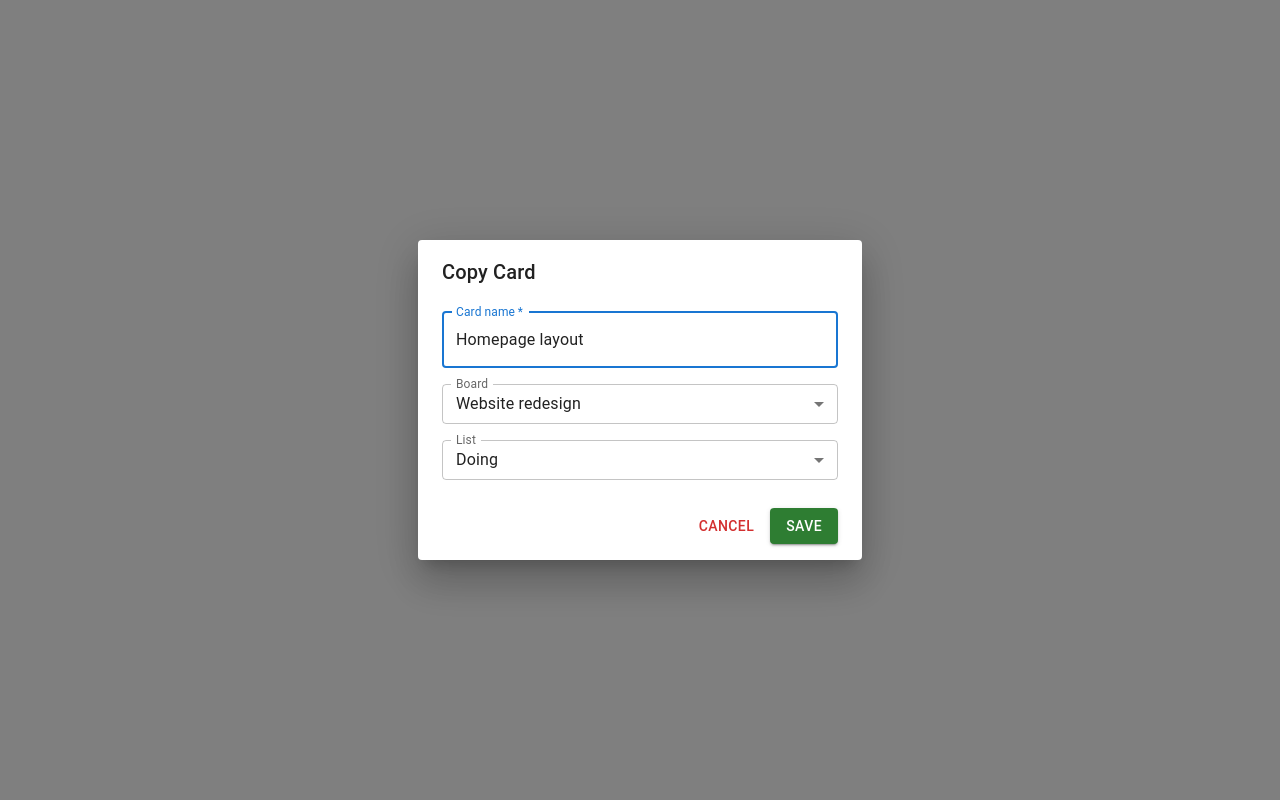
Test: CopyCardDialog › picks the card's own list again on going back to its board
Check: the dropdown named "List" reads "Doing", box [456,450,498,469]
Click the dropdown named "Board" at (518, 404), box [456,394,581,413]
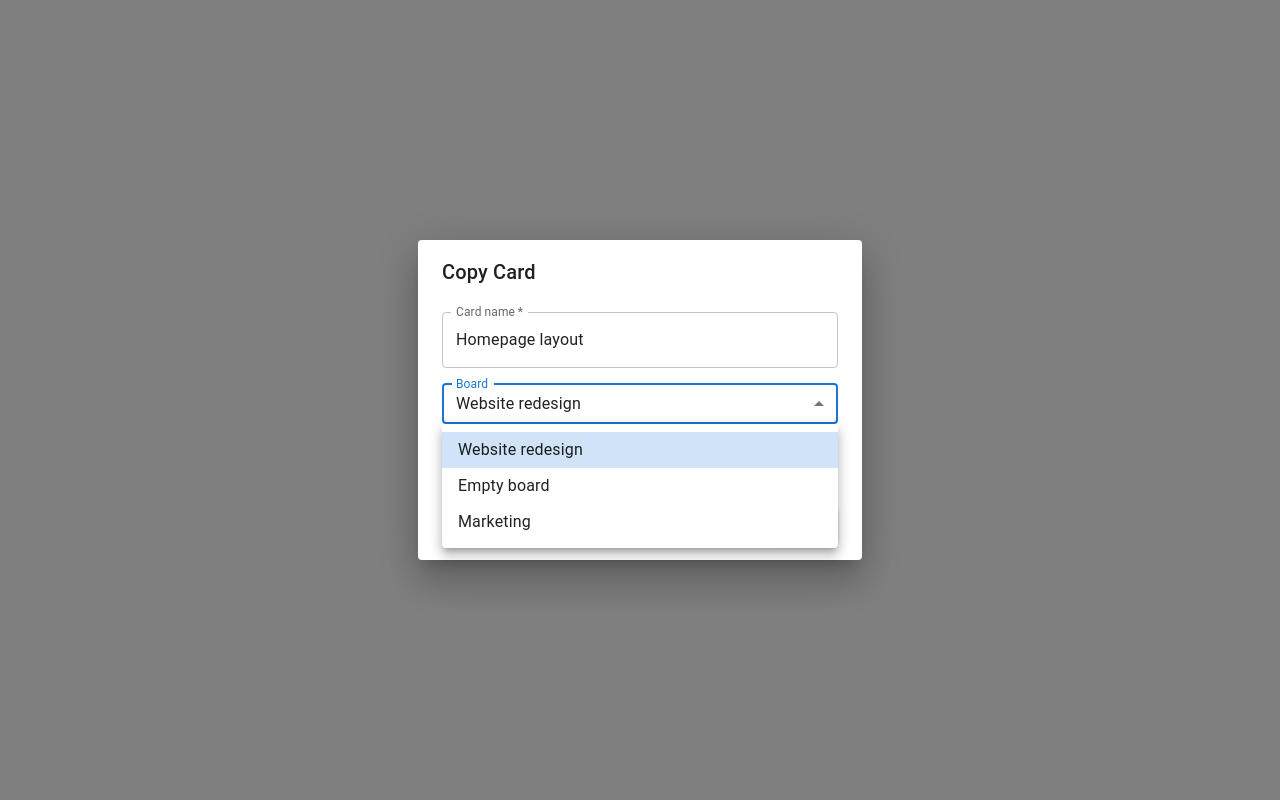
Click the option "Marketing" at (494, 522), box [458,512,531,531]
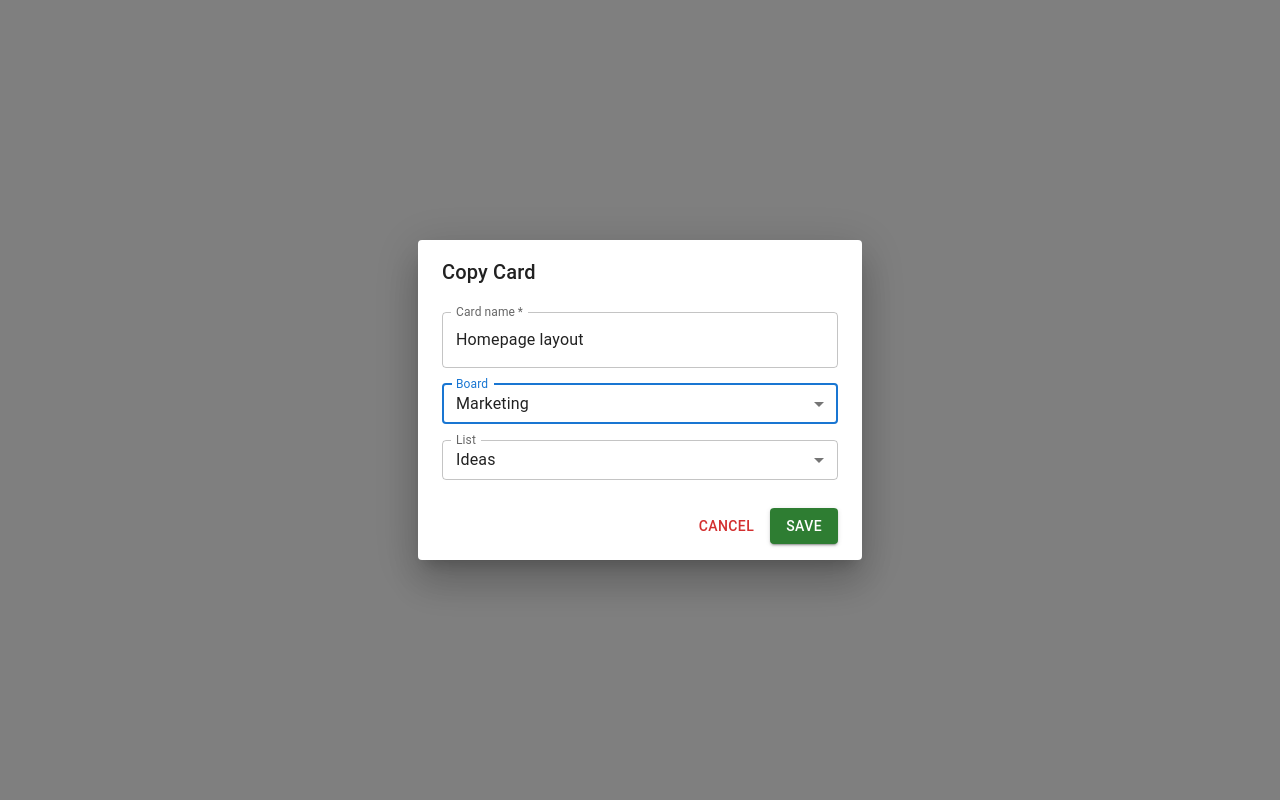
Check: the dropdown named "List" reads "Ideas", box [456,450,496,469]
Click the dropdown named "Board" at (492, 404), box [456,394,529,413]
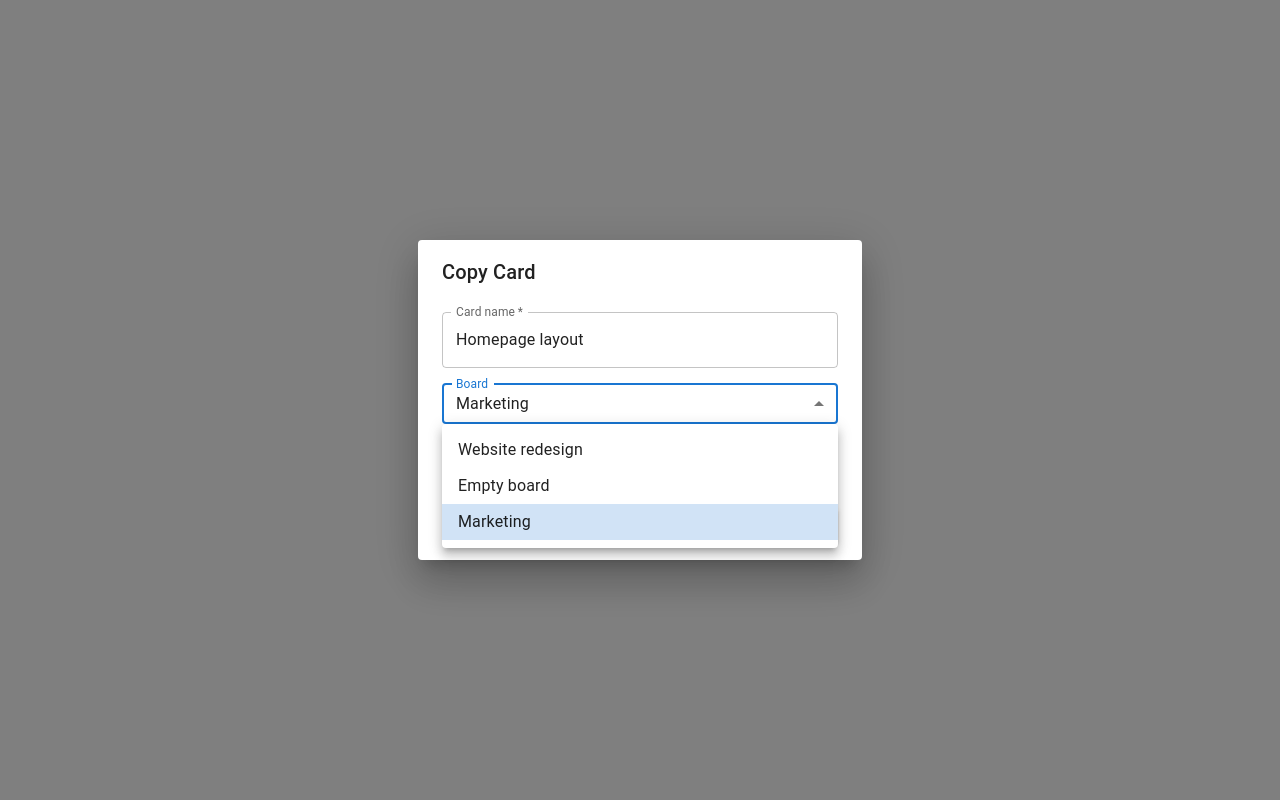
Click the option "Website redesign" at (520, 450), box [458,440,583,459]
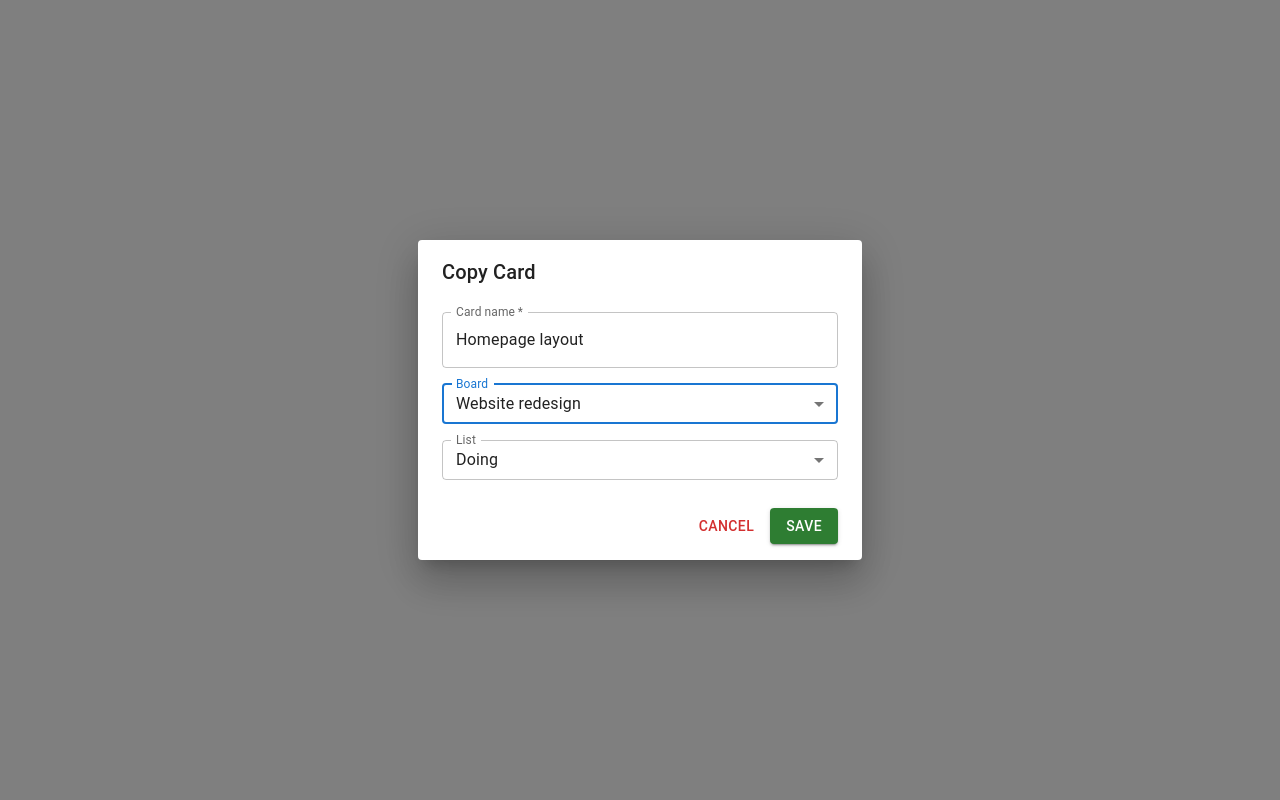
Check: the dropdown named "List" reads "Doing", box [456,450,498,469]
